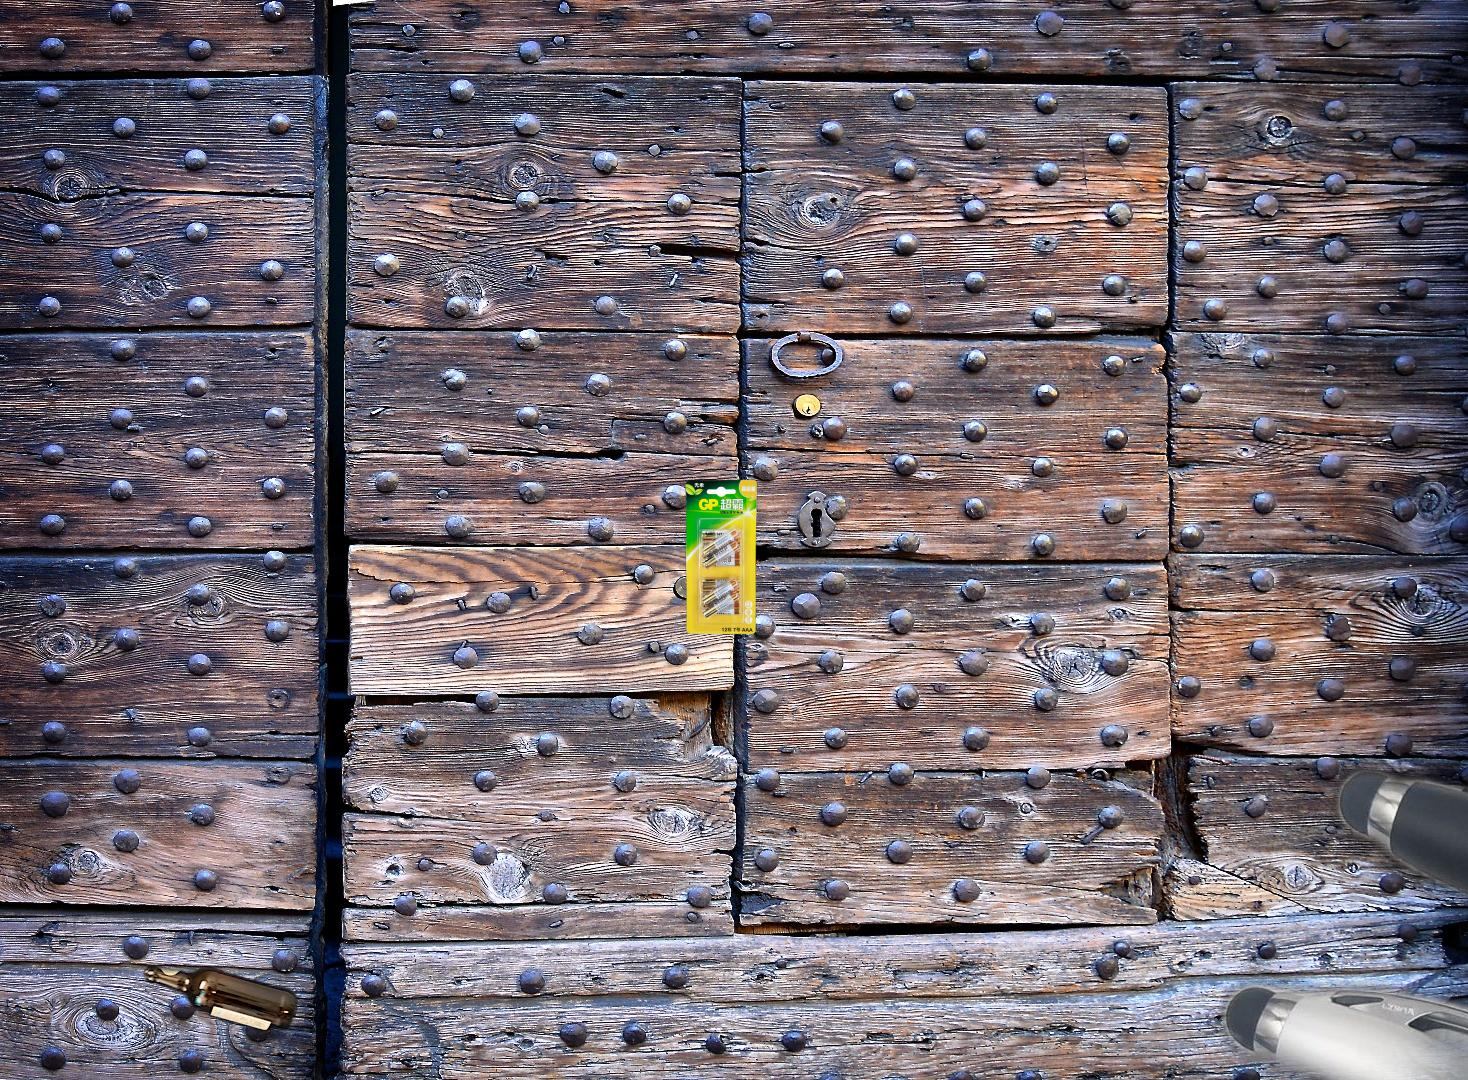battery: (682, 477, 760, 637)
glass: (140, 959, 303, 1039)
penholder: (1004, 755, 1468, 1080)
